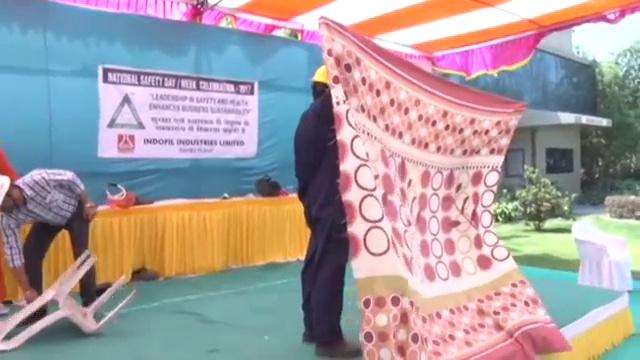helmet: (311, 63, 330, 84), (1, 173, 11, 206)
helmet_on: (308, 61, 332, 103), (1, 170, 24, 213)
person: (292, 61, 362, 355), (1, 169, 97, 320)
